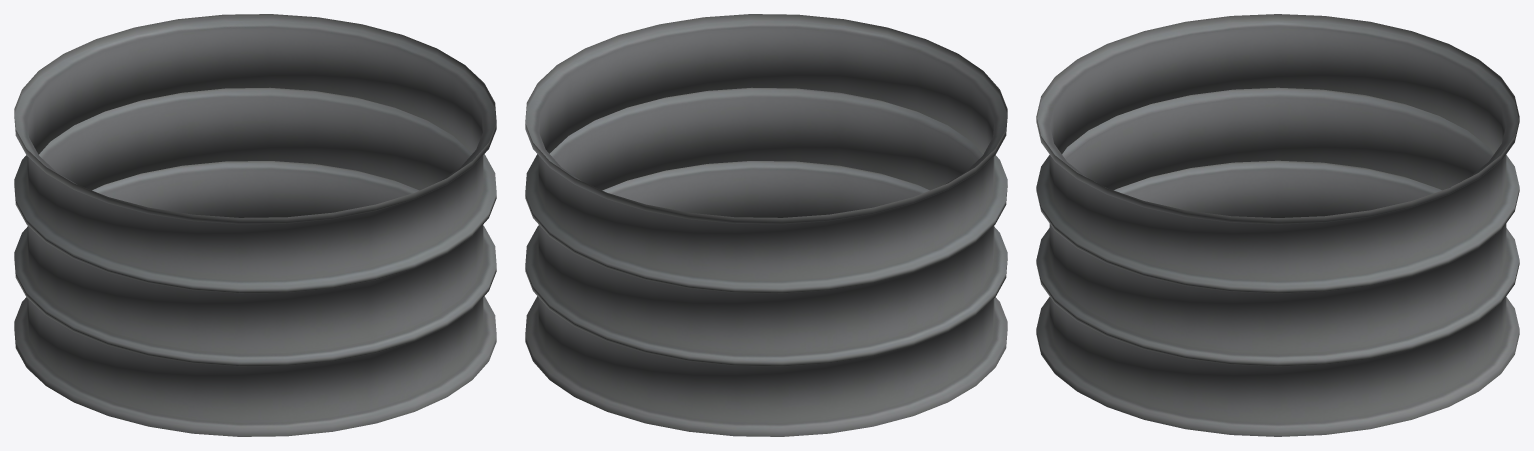
File: drainage-pipe-unit-tripo-original.glb
The picture shows the model from 3 angles, left to right: view 1: azimuth 30°, elevation 25°; view 2: azimuth 150°, elevation 25°; view 3: azimuth 270°, elevation 25°; orthographic projection.
Visible parts, largest first — view 1: Authored_surface; view 2: Authored_surface; view 3: Authored_surface.
Boxes of the visible parts, x1=… form: Authored_surface: x1=14, y1=14, x2=496, y2=436; Authored_surface: x1=525, y1=14, x2=1007, y2=436; Authored_surface: x1=1036, y1=14, x2=1519, y2=436.
Bounding box in the file's own units: 1 × 0.5 × 1.
1 material, 1 textured.
